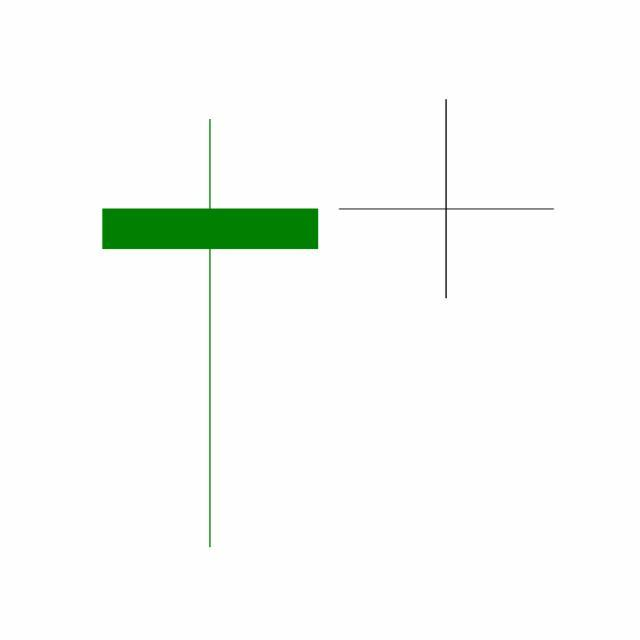Spinning Top: (328, 97, 566, 301)
